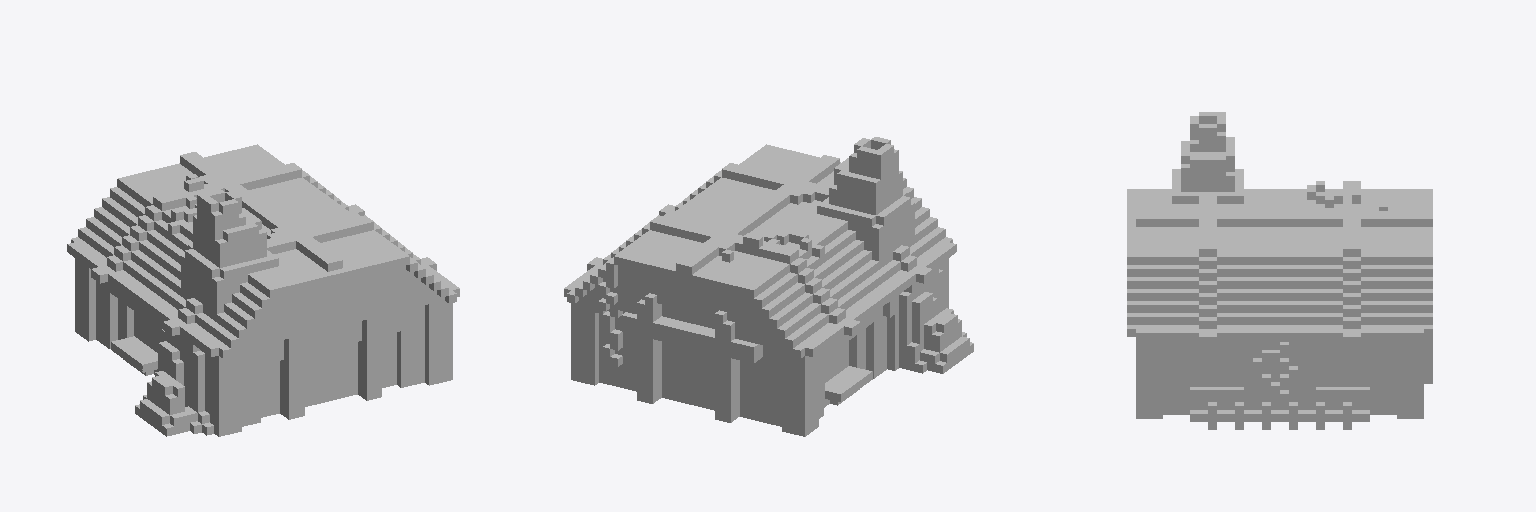
Rendered from cottage.obj.
The picture shows the model from 3 angles: view 1: azimuth 30°, elevation 25°; view 2: azimuth 150°, elevation 25°; view 3: azimuth 270°, elevation 25°; orthographic projection.
Visible parts, largest first — view 1: cottage; view 2: cottage; view 3: cottage.
Boxes of the visible parts, box(x1,y1,x2,y2) form: cottage: box(67, 144, 459, 436); cottage: box(564, 137, 973, 436); cottage: box(1127, 112, 1432, 429).
Size of the model in its own units: 38 by 25 by 34.